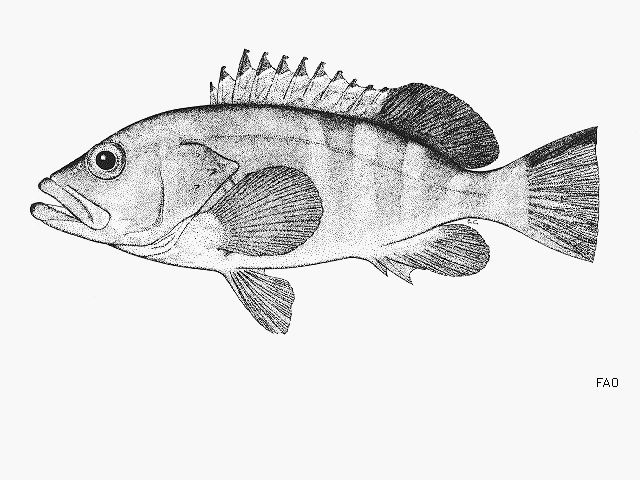fish: (30, 49, 601, 335)
